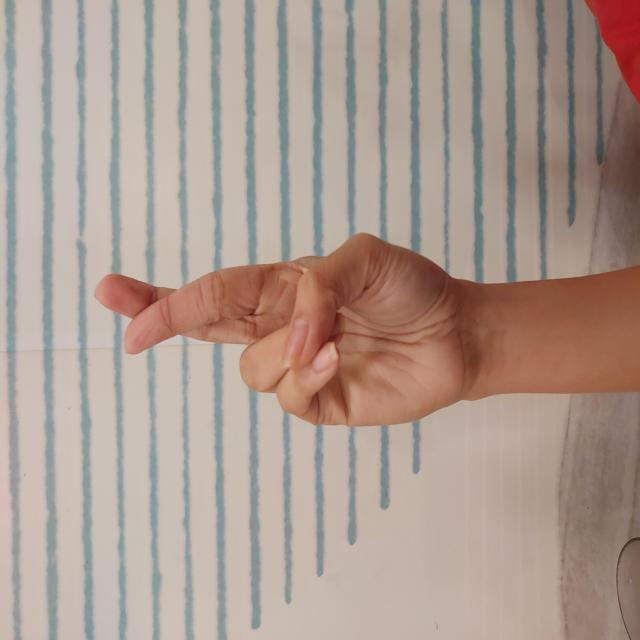R: (212, 93, 410, 472)
